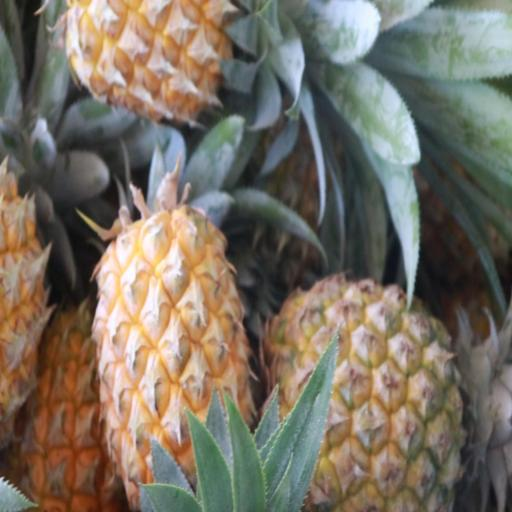Pineapple - v8 v1: (97, 204, 253, 512), (270, 283, 476, 512), (67, 0, 302, 128), (19, 300, 124, 512)
